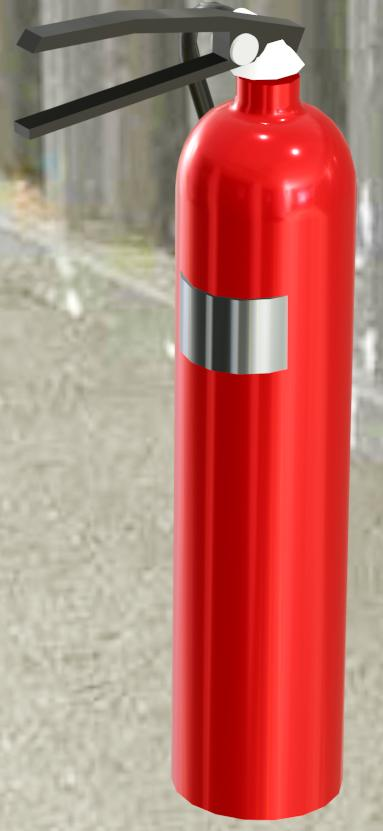fire_extinguisher: (0, 1, 383, 831)
